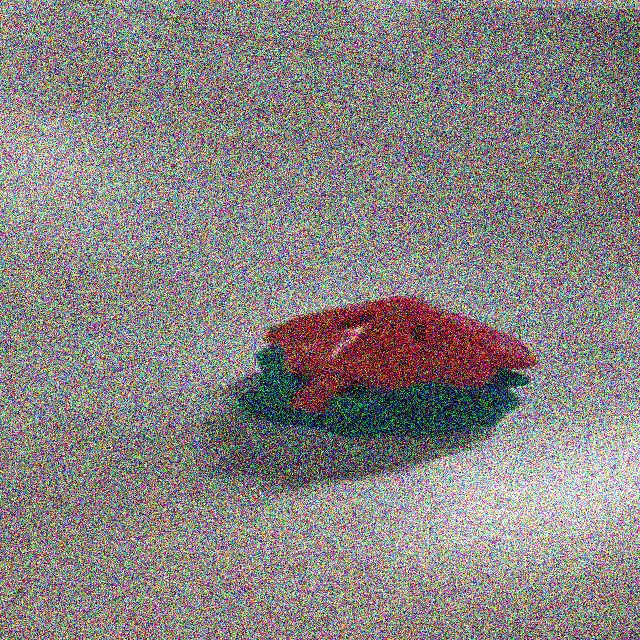House: (229, 294, 539, 438)
